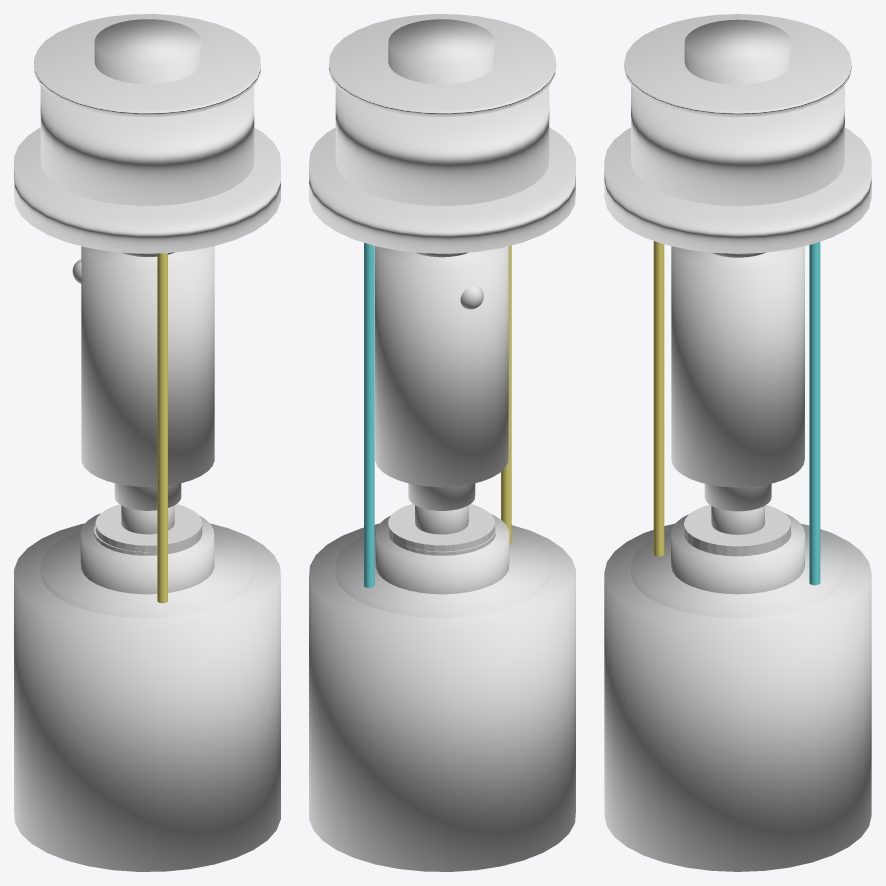
The model's file is spindles.glb.
3 renders of one model, left to right at view 1: azimuth 30°, elevation 25°; view 2: azimuth 150°, elevation 25°; view 3: azimuth 270°, elevation 25°, orthographic.
Parts seen in each view (by area): view 1: Cylinder.008, Cylinder.011, MainShaft, Cylinder.014, FrontBearingHousing; view 2: Cylinder.008, Cylinder.011, MainShaft, Cylinder.015, FrontBearingHousing, Cylinder.014; view 3: Cylinder.008, Cylinder.011, MainShaft, Cylinder.015, Cylinder.014, FrontBearingHousing.
Boxes of the visible parts, x1,y1,x2,y2 form: Cylinder.008: [14, 513, 280, 871]; Cylinder.011: [14, 14, 280, 253]; MainShaft: [72, 19, 214, 534]; Cylinder.014: [157, 253, 167, 603]; FrontBearingHousing: [95, 504, 202, 555]; Cylinder.008: [309, 514, 575, 871]; Cylinder.011: [309, 14, 575, 253]; MainShaft: [375, 19, 508, 534]; Cylinder.015: [364, 243, 374, 587]; FrontBearingHousing: [388, 504, 494, 551]; Cylinder.014: [501, 245, 511, 544]; Cylinder.008: [604, 513, 871, 871]; Cylinder.011: [604, 14, 871, 253]; MainShaft: [671, 19, 804, 534]; Cylinder.015: [809, 242, 820, 585]; Cylinder.014: [653, 241, 664, 556]; FrontBearingHousing: [684, 504, 790, 556].
Size of the model in its own units: 2 by 6.38 by 2.
